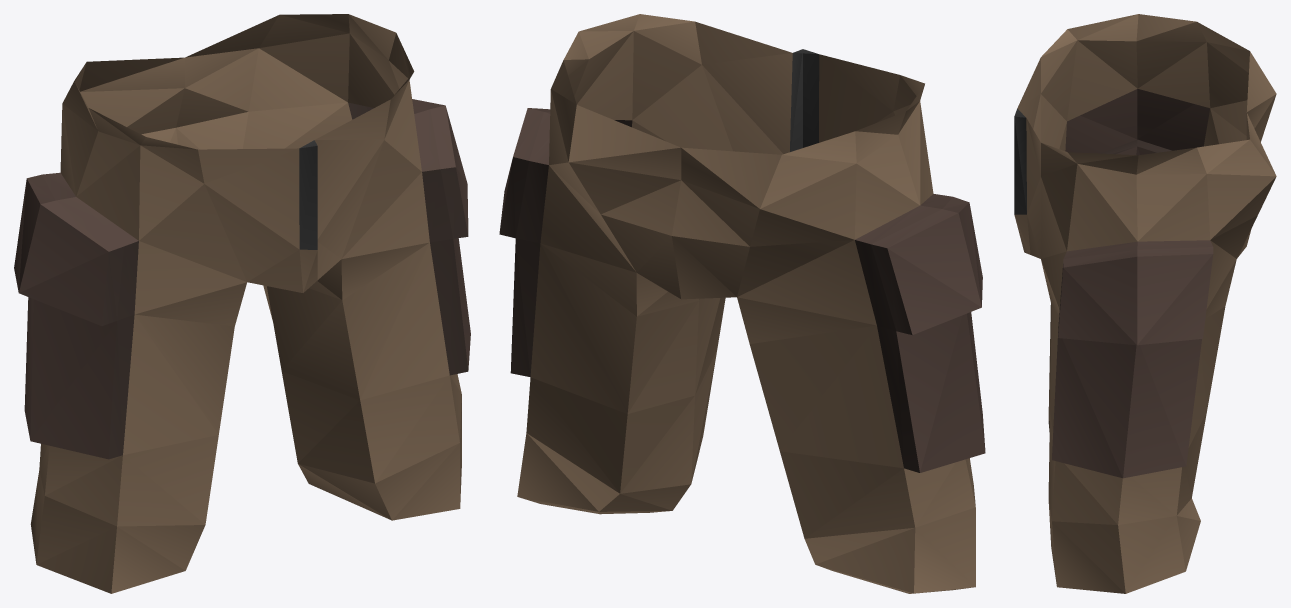
The model's file is RareBlacksmithPants.dae.
The picture shows the model from 3 angles, left to right: view 1: azimuth 30°, elevation 25°; view 2: azimuth 150°, elevation 25°; view 3: azimuth 270°, elevation 25°; orthographic projection. The views are drawn at different scales.
Parts seen in each view (by area): view 1: Pants; view 2: Pants; view 3: Pants.
Part boxes in pixels (x1,y1,x2,y2): Pants: (14, 14, 470, 593); Pants: (499, 14, 985, 593); Pants: (1014, 14, 1276, 593).
Size of the model in its own units: 2.93 by 1.58 by 2.84.
